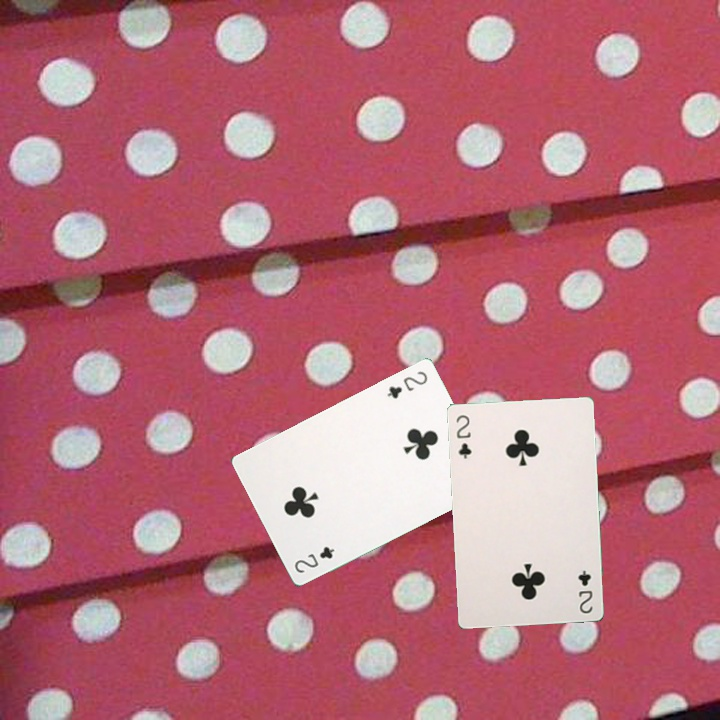2c: (383, 367, 430, 401), (290, 542, 337, 576), (452, 411, 474, 461), (574, 566, 595, 616)
